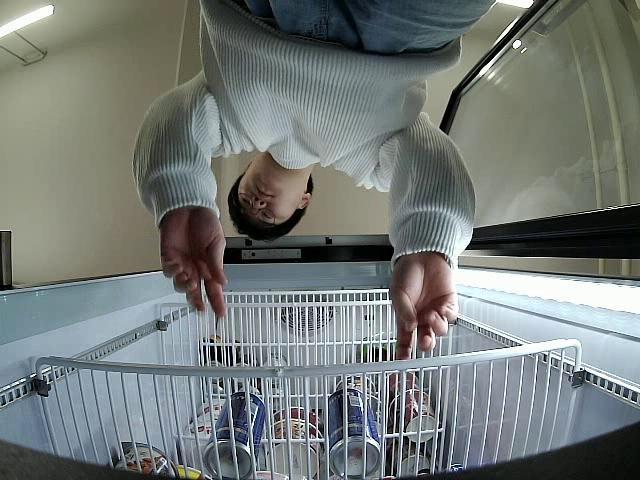00_hand: (160, 213, 230, 319), (390, 265, 459, 359)
